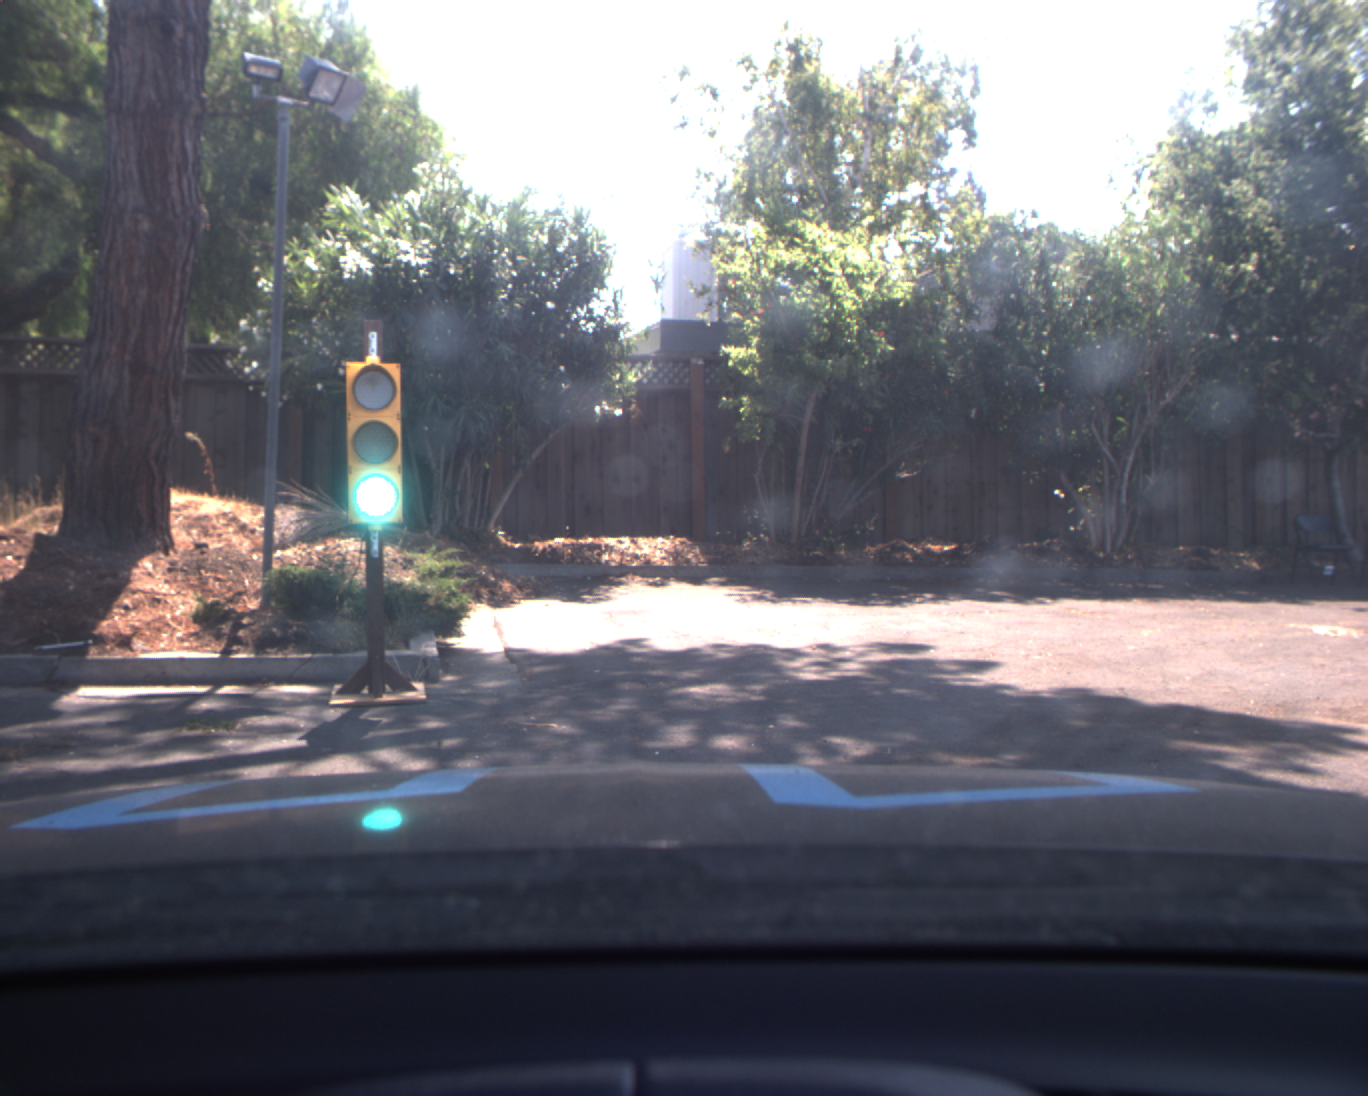green: (343, 358, 406, 527)
